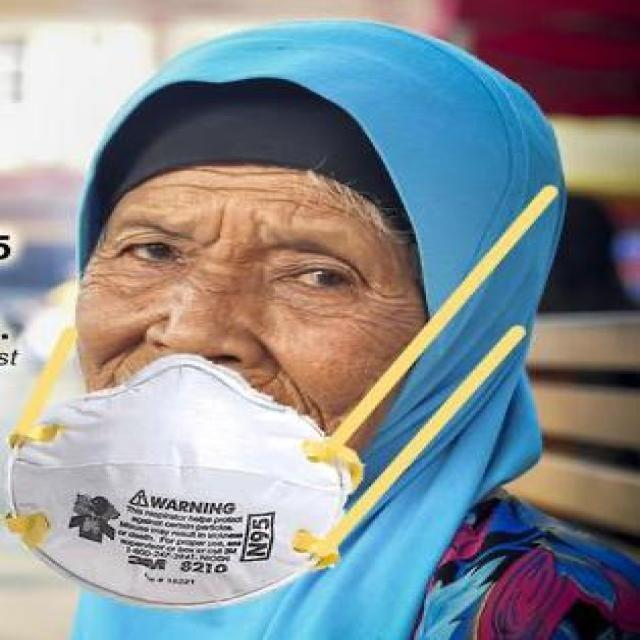hairnet: (24, 184, 428, 578)
